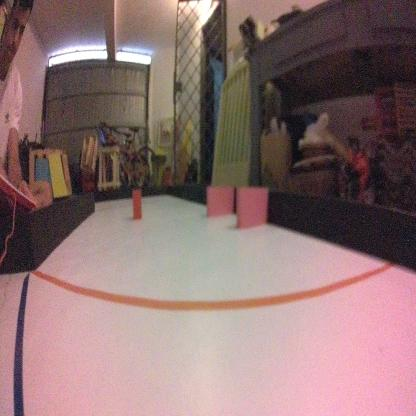magenta: (235, 185, 268, 231), (206, 181, 235, 219)
red: (132, 186, 142, 217)
